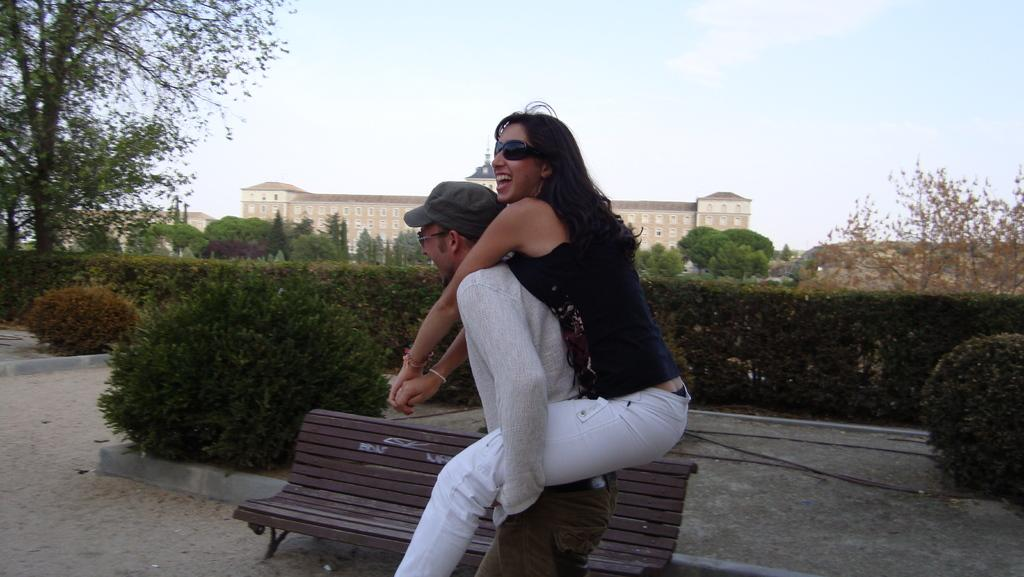Hat: (401, 180, 507, 243)
